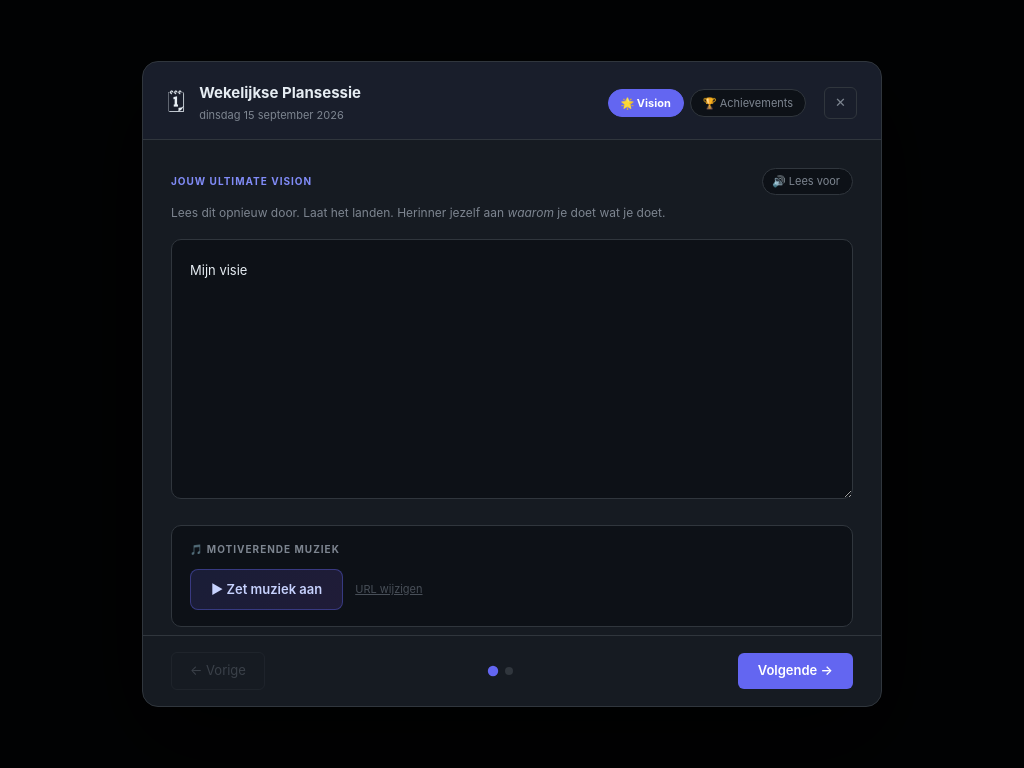
Scenario: PlanningSessionModal › structure and navigation › Volgende → goes to phase 2
What coordinates should you click on to do the following:
click the button "Volgende →"
I would click on:
 (795, 671)
Its box is [738,653,853,689].
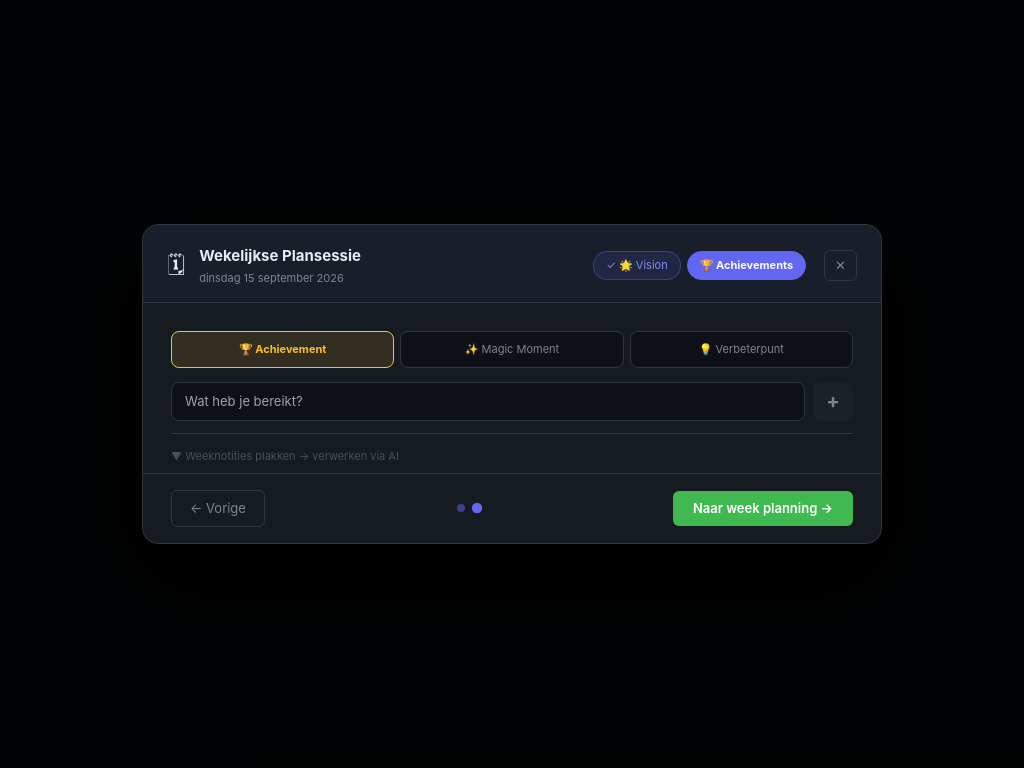
Expected: the field with placeholder "Wat heb je bereikt?" is shown, [171,382,805,421]
